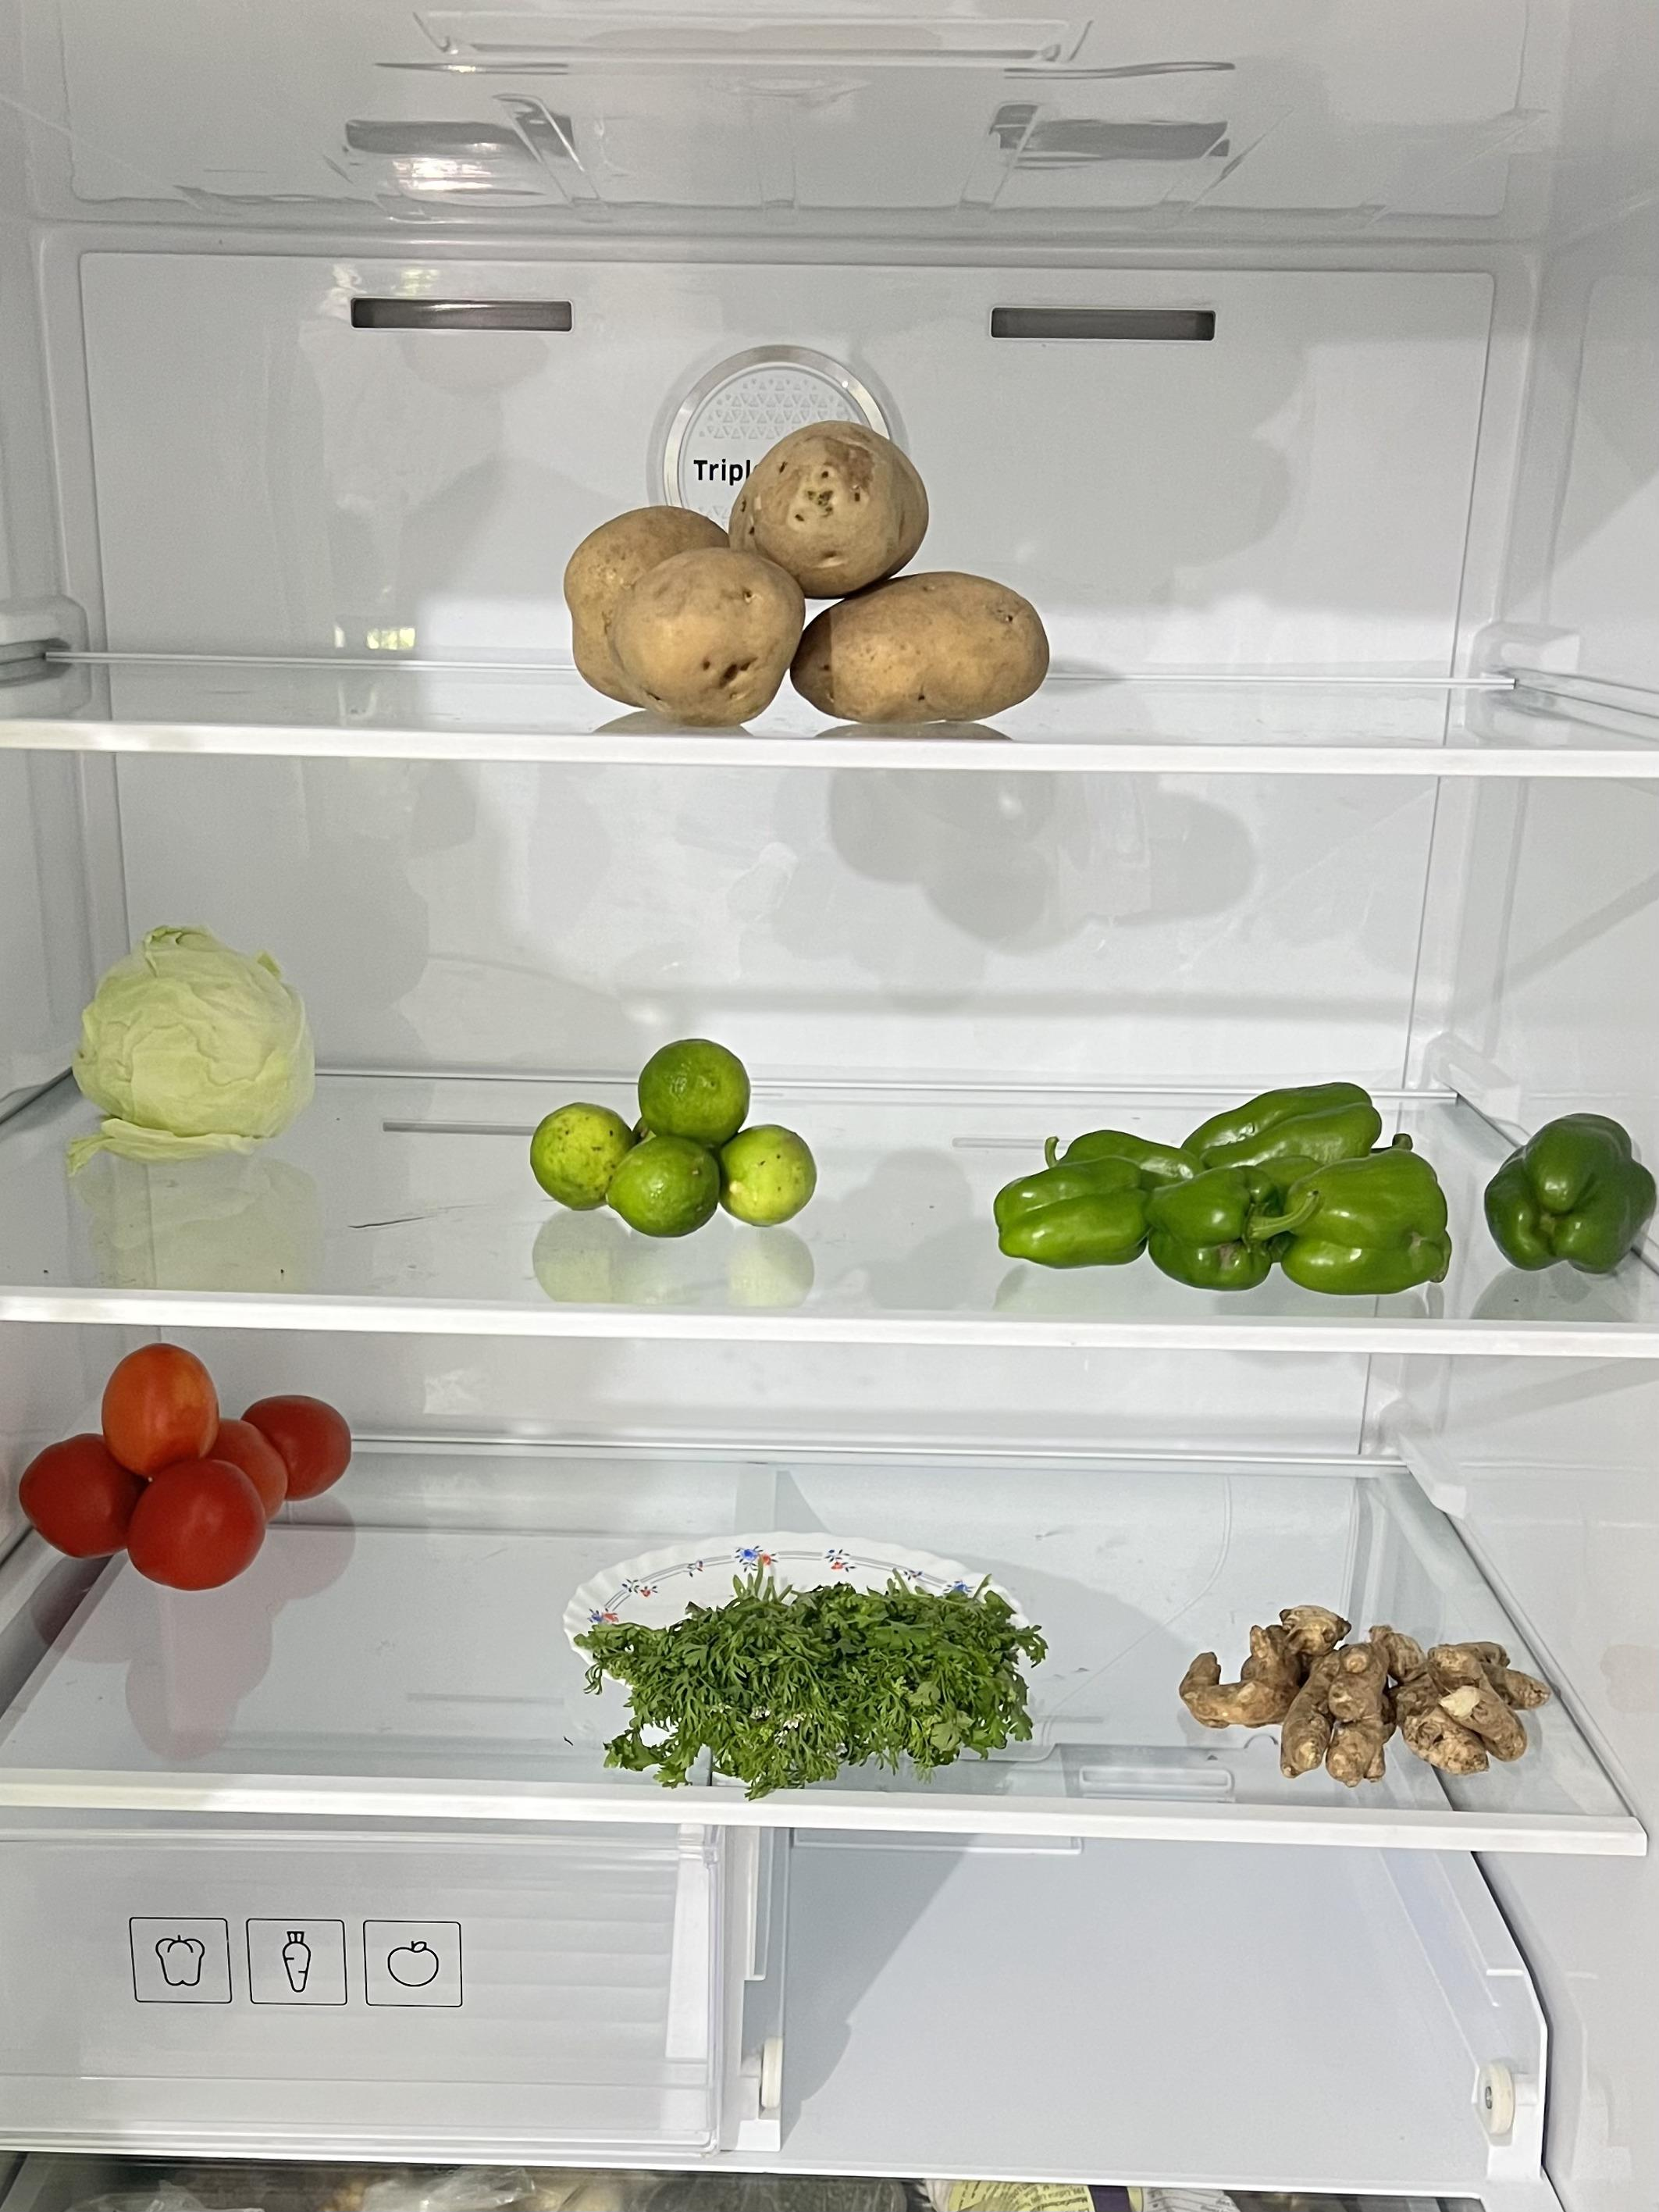cabbage: (77, 913, 305, 1145)
capsicum: (993, 1075, 1448, 1299), (1485, 1105, 1649, 1267)
coriander: (570, 1557, 1051, 1783)
ginger: (1185, 1600, 1546, 1778)
lemon: (530, 1032, 817, 1236)
potato: (566, 417, 1046, 725)
tomato: (19, 1337, 354, 1593)
